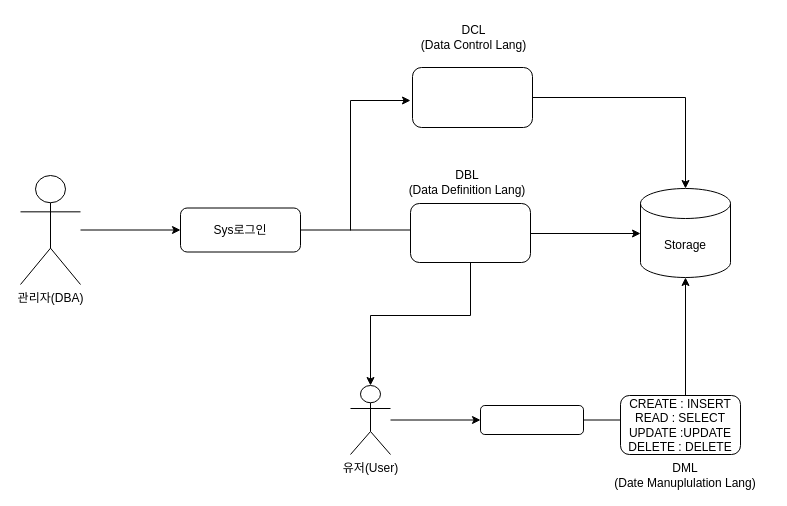
Some shapes in this 787 by 506 pixel diagram are drawn without their labels. The centre of each missing label's shape, as x and y in pixels:
DB ,User Create DB ,User DROP DB Alter: pixel 470 232
GRANT REVOKE COMMIT ROLL BACK: pixel 472 97
User 로그인: pixel 532 419
